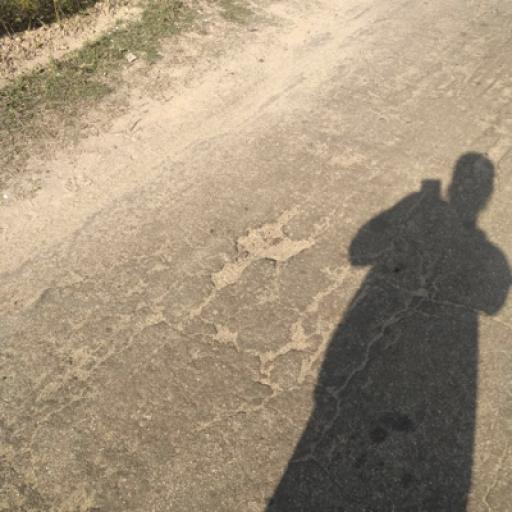pothole: (207, 210, 315, 290), (210, 321, 241, 348)
